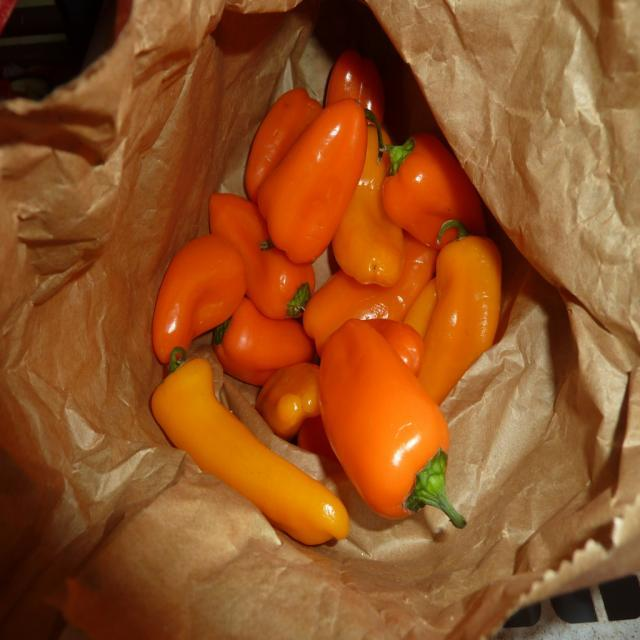Bell pepper: (147, 46, 501, 550)
